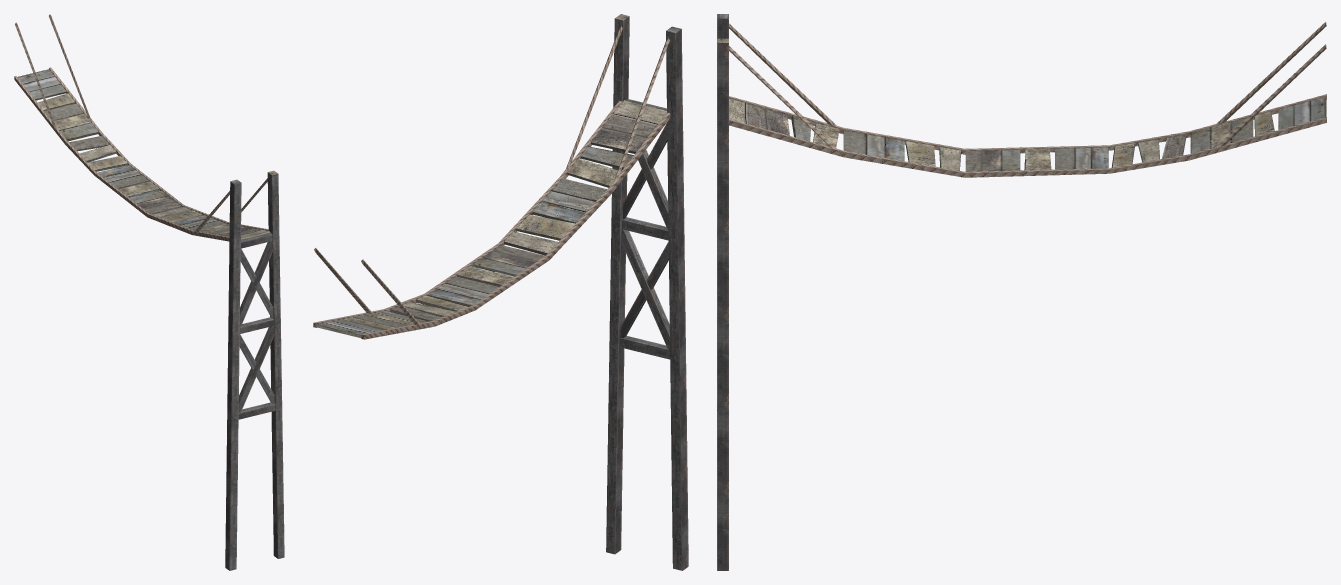
The model's file is RBRG02.glb.
3 views of the same model, side by side, from view 1: azimuth 30°, elevation 25°; view 2: azimuth 150°, elevation 25°; view 3: azimuth 270°, elevation 25° (orthographic). The views are drawn at different scales.
Parts seen in each view (by area): view 1: _RBRG02; view 2: _RBRG02; view 3: _RBRG02.
Boxes of the visible parts, <box> form: _RBRG02: <box>14,14,284,570</box>; _RBRG02: <box>313,14,688,570</box>; _RBRG02: <box>717,14,1326,570</box>.
Size of the model in its own units: 5.75 by 38.43 by 40.55.
1 material, 1 textured.
